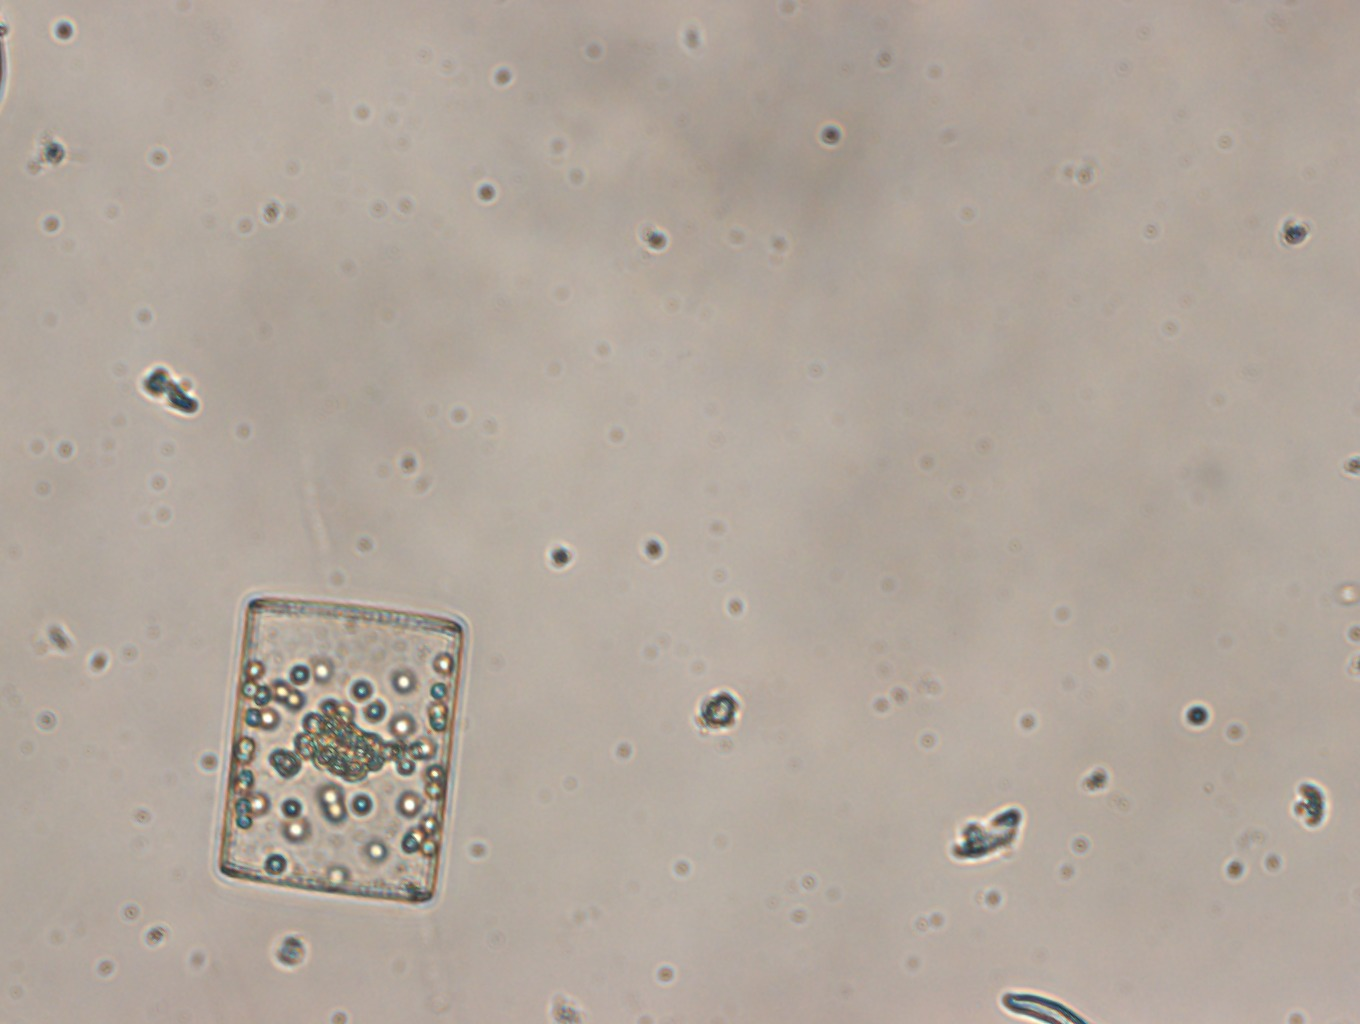guinardia flaccida: (216, 598, 466, 900)
